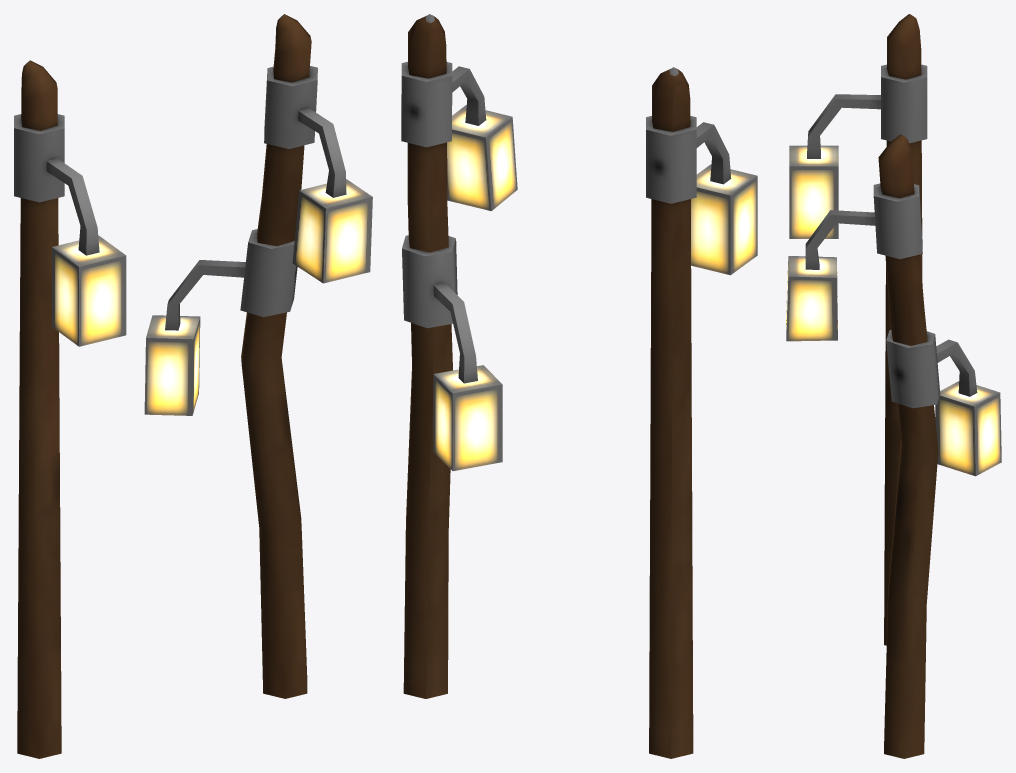
Rendered from lowpolylamp.gltf.
3 views of the same model, side by side, from view 1: azimuth 30°, elevation 25°; view 2: azimuth 150°, elevation 25°; view 3: azimuth 270°, elevation 25° (orthographic). The views are drawn at different scales.
Parts seen in each view (by area): view 1: Poste_Torto_1, Poste_Reto_0; view 2: Poste_Torto_1, Poste_Reto_0; view 3: Poste_Torto_1, Poste_Reto_0.
Boxes of the visible parts, box(x1,y1,x2,y2) form: Poste_Torto_1: box(144, 14, 372, 698); Poste_Reto_0: box(14, 60, 126, 758); Poste_Torto_1: box(401, 14, 517, 698); Poste_Reto_0: box(646, 67, 757, 758); Poste_Torto_1: box(786, 134, 1001, 758); Poste_Reto_0: box(789, 14, 927, 645).
Size of the model in its own units: 4.48 by 9.8 by 3.07.
